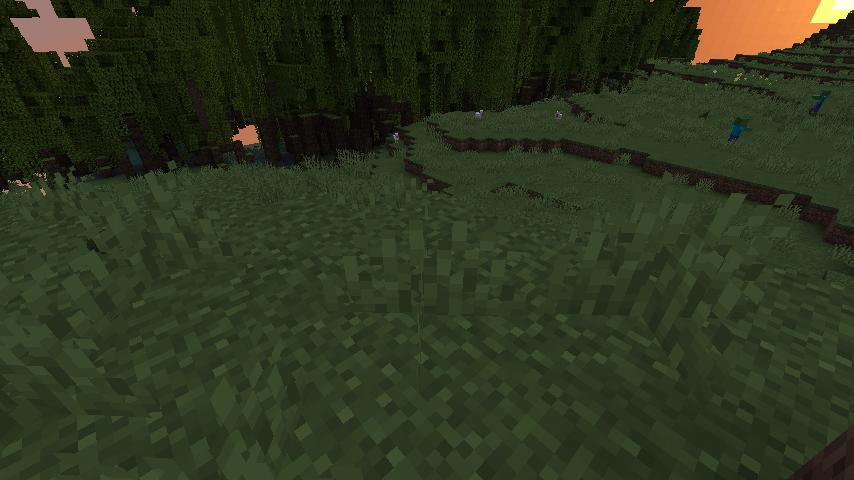chicken: (553, 109, 565, 123), (474, 108, 486, 120), (392, 130, 401, 144)
zombie: (724, 112, 752, 143), (808, 85, 834, 118)
